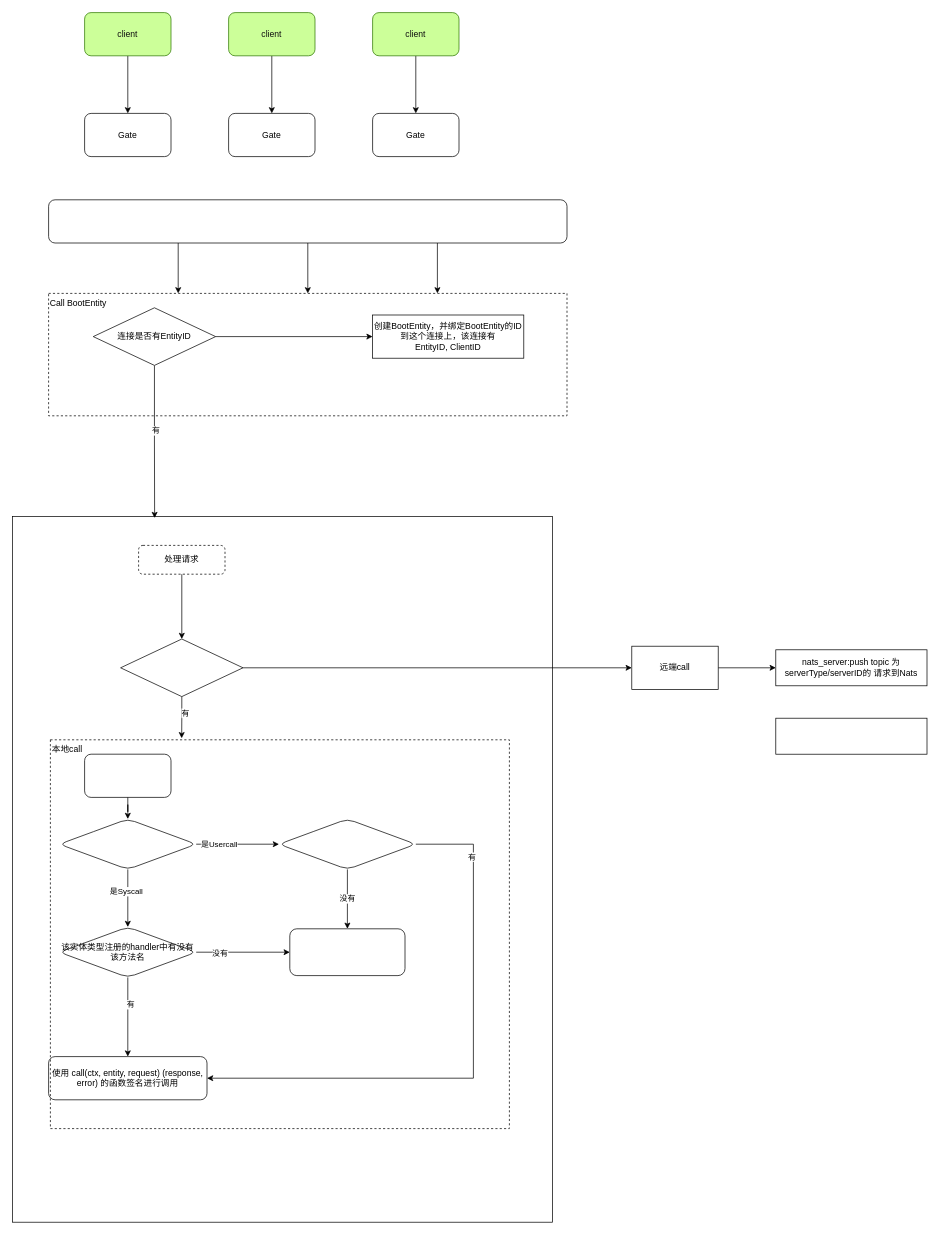
Image size: 940x1235. Some labels were removed from this diagram. The box of each missing label's shape, as (x1, y1, x2, y2) in pixels:
Dispatcher: (48, 199, 567, 243)
nats_client: subscribe topic 为 当前serverType/serverID: (775, 717, 927, 754)
Process Handler: (12, 516, 553, 1222)
处理本地Call: (84, 753, 171, 797)
是Syscall还是Usercall: (59, 818, 196, 869)
本地是否有该实体ID: (120, 638, 243, 697)
该实体类型注册的remote中有没有该方法名: (278, 818, 416, 869)
返回未找到该方法错误: (289, 928, 405, 976)
